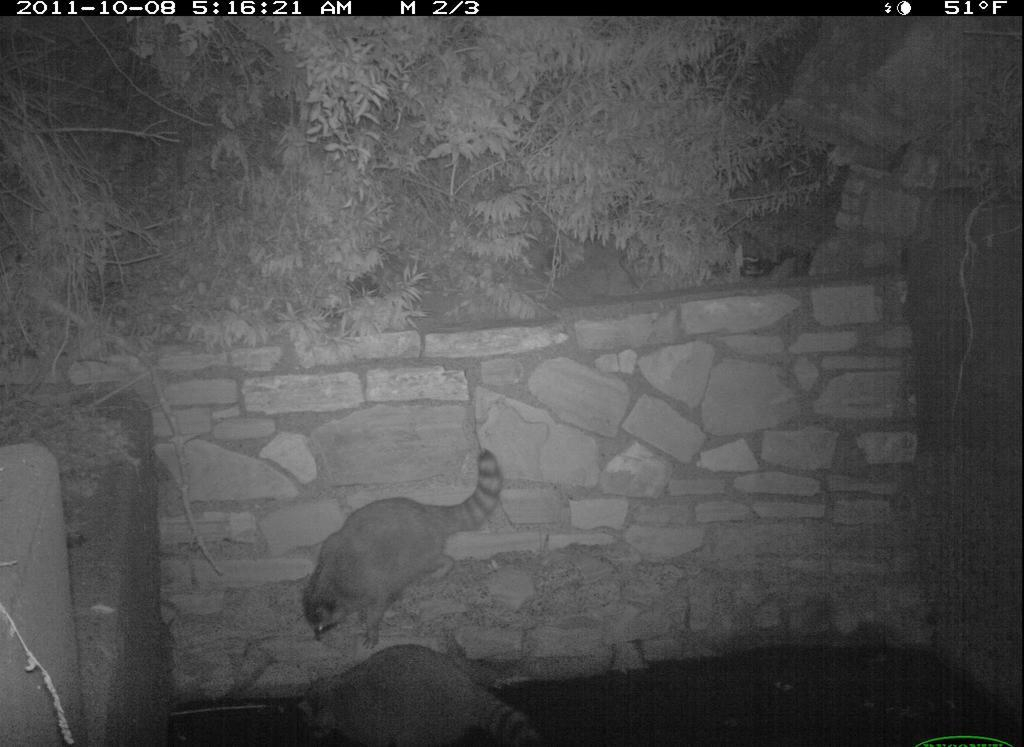raccoon: (292, 441, 516, 642), (292, 644, 552, 747)
